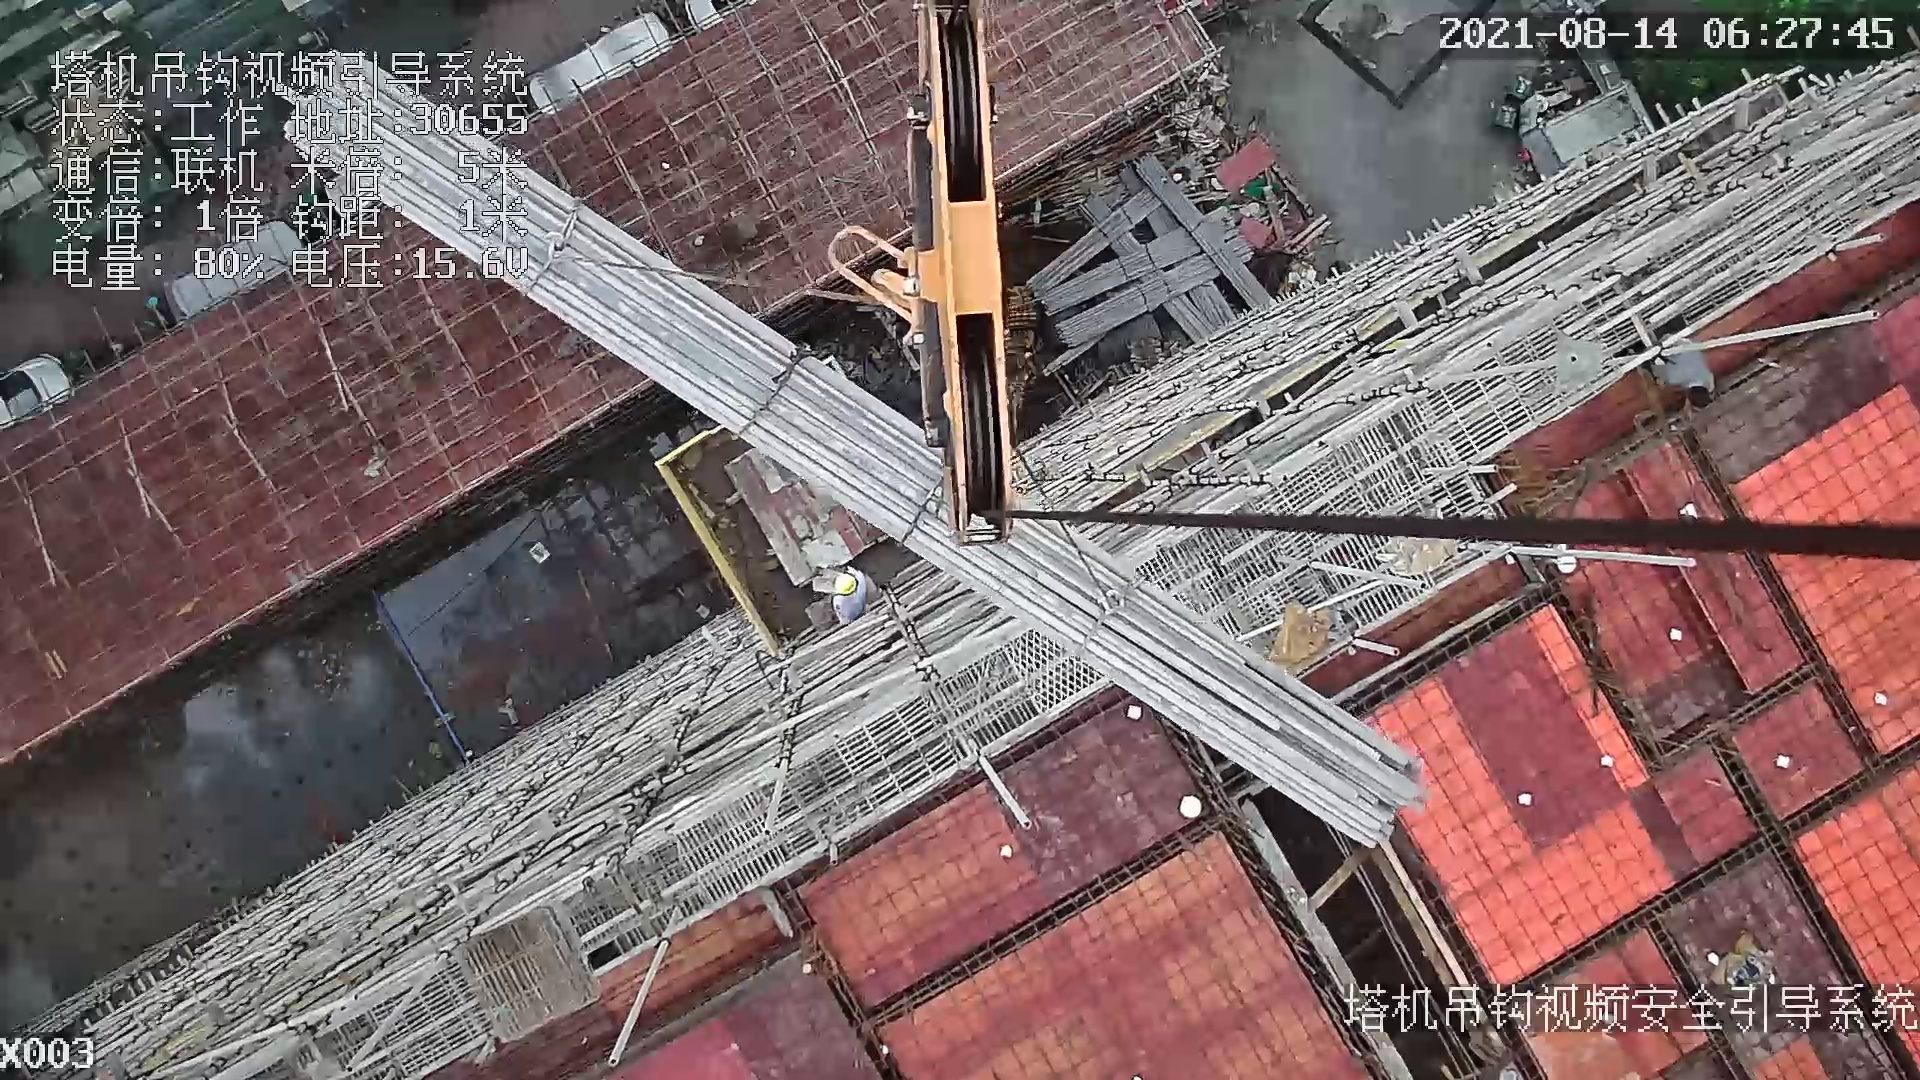helmet: (827, 565, 869, 600)
hook: (892, 1, 1019, 549)
person: (1652, 338, 1728, 410), (815, 562, 886, 621)
